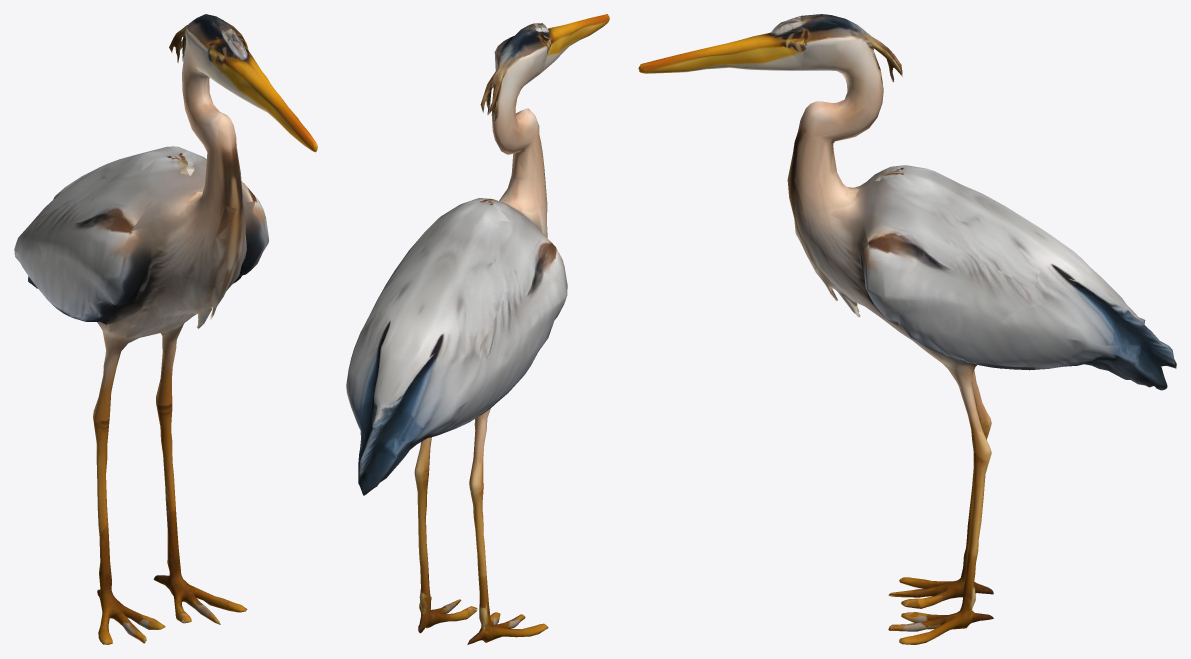
The model's file is heron_blue.glb.
3 views of the same model, side by side, from view 1: azimuth 30°, elevation 25°; view 2: azimuth 150°, elevation 25°; view 3: azimuth 270°, elevation 25° (orthographic). The views are drawn at different scales.
Visible parts, largest first — view 1: dock; view 2: dock; view 3: dock.
Part boxes in pixels (left/top/right/bottom): dock: left=14, top=14, right=317, bottom=644; dock: left=346, top=14, right=609, bottom=644; dock: left=638, top=14, right=1176, bottom=644.
Bounding box in the file's own units: 0.3223 × 1.18 × 0.9586.
Materials: 1 (1 with a texture image).
